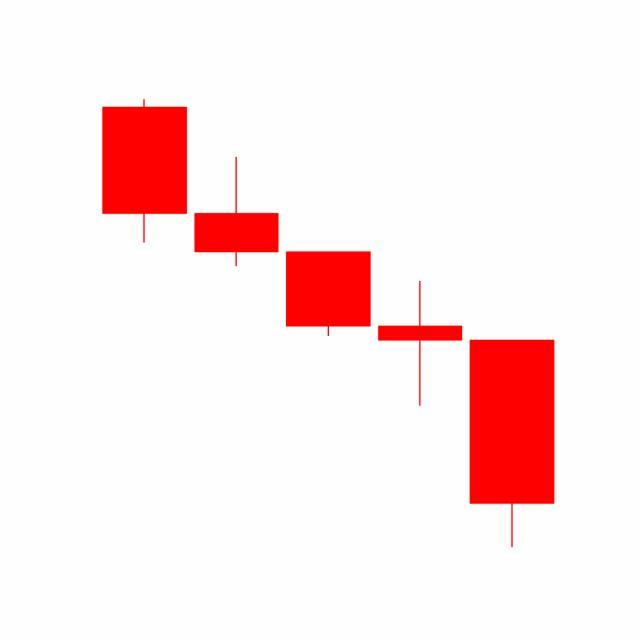Spinning Top: (374, 279, 468, 408)
